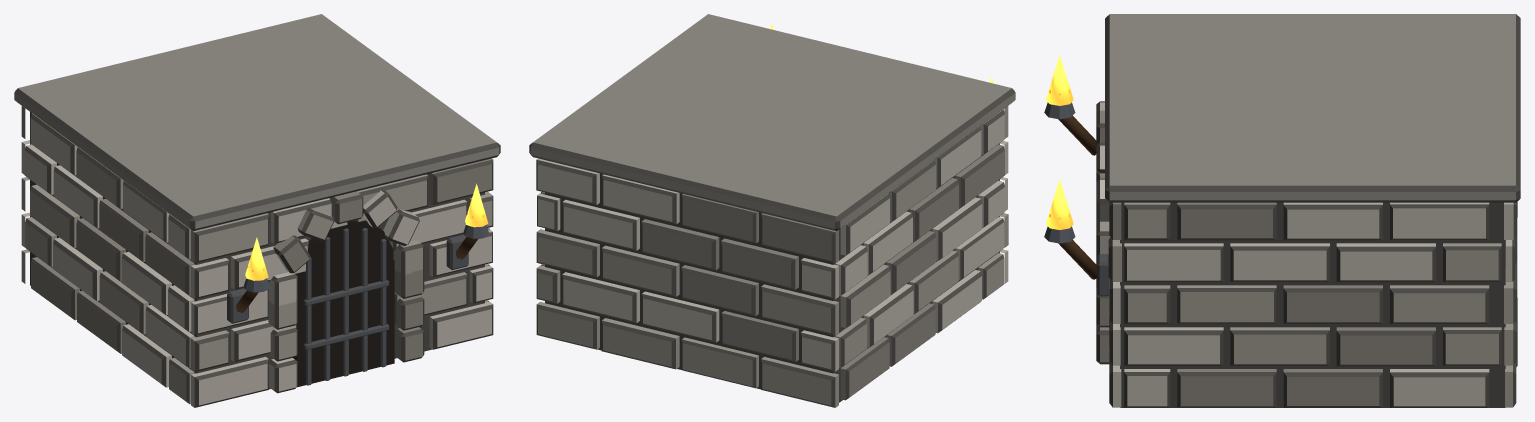
Rendered from block_stone_gate.glb.
3 views of the same model, side by side, from view 1: azimuth 30°, elevation 25°; view 2: azimuth 150°, elevation 25°; view 3: azimuth 270°, elevation 25° (orthographic). The views are drawn at different scales.
Parts seen in each view (by area): view 1: StoneBodyGate; view 2: StoneBodyGate; view 3: StoneBodyGate.
Boxes of the visible parts, x1=… form: StoneBodyGate: x1=14, y1=14, x2=500, y2=407; StoneBodyGate: x1=529, y1=14, x2=1015, y2=407; StoneBodyGate: x1=1044, y1=14, x2=1520, y2=407.
Bounding box in the file's own units: 1.33 × 0.8 × 1.53.
